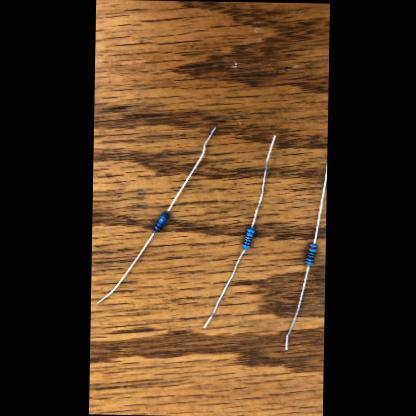resistor: (152, 210, 168, 230), (241, 226, 254, 247), (304, 242, 316, 263)
wire: (165, 125, 214, 212), (96, 230, 154, 302), (202, 248, 245, 328), (250, 134, 274, 228), (284, 264, 309, 349), (311, 161, 325, 243)
